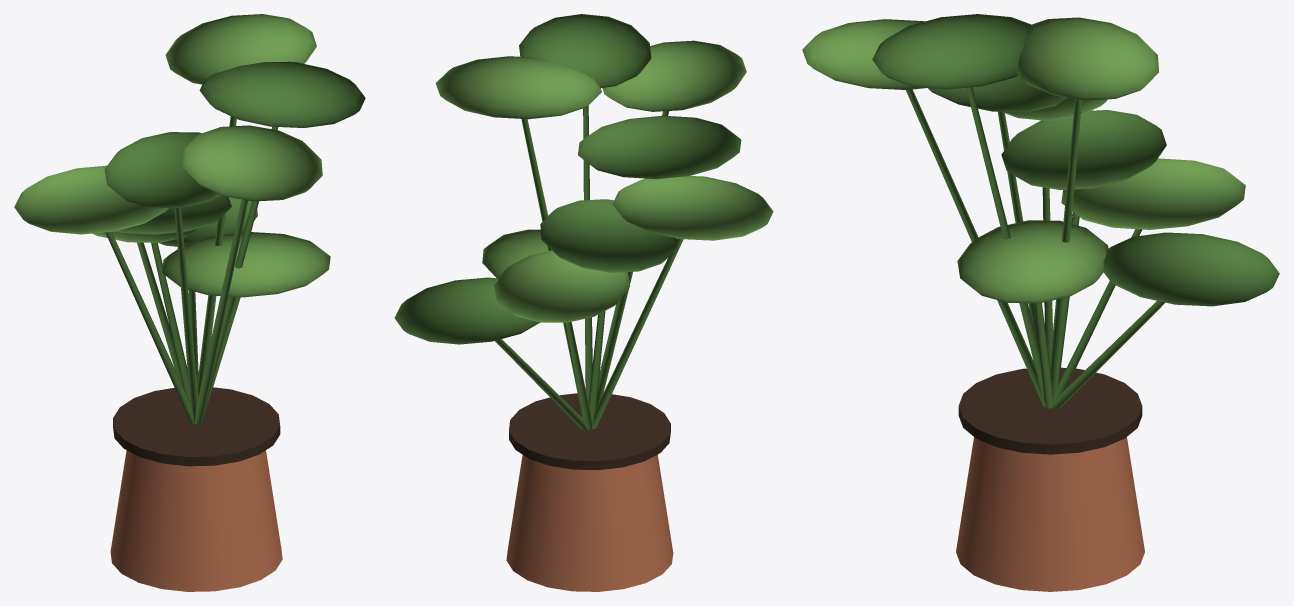
Rendered from monstera.glb.
3 renders of one model, left to right at view 1: azimuth 30°, elevation 25°; view 2: azimuth 150°, elevation 25°; view 3: azimuth 270°, elevation 25°, orthographic. The views are drawn at different scales.
Parts seen in each view (by area): view 1: monstera; view 2: monstera; view 3: monstera.
Boxes of the visible parts, x1,y1,x2,y2 form: monstera: (14, 14, 365, 591); monstera: (394, 14, 773, 591); monstera: (802, 14, 1279, 591).
Size of the model in its own units: 0.7022 by 1.07 by 0.8587.
